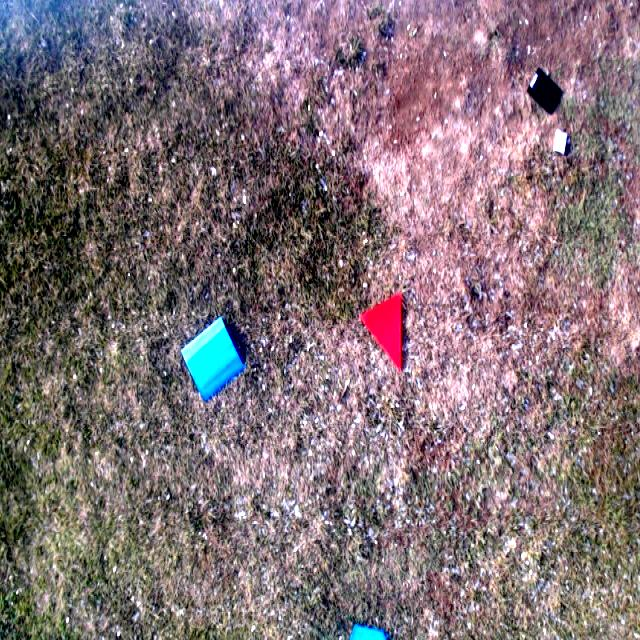blue_square: (181, 318, 244, 399)
red_triangle: (361, 296, 400, 371)
